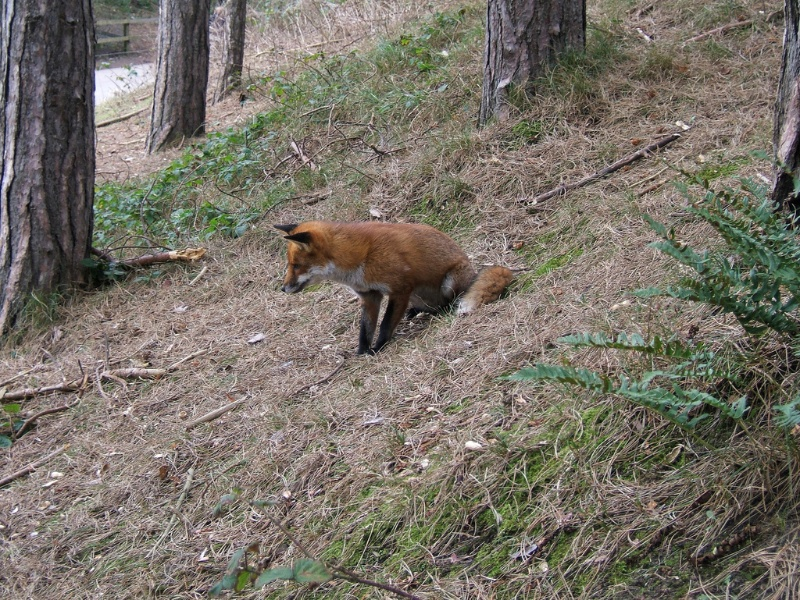fox: (271, 216, 520, 366)
